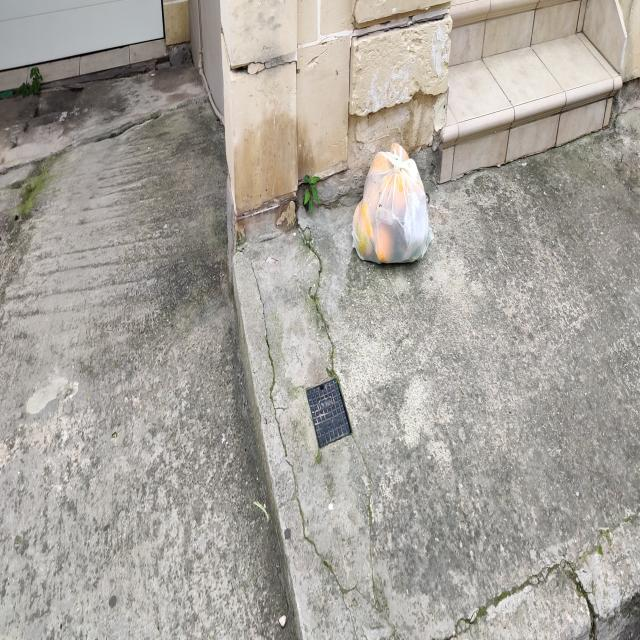Organic Waste -White Bags-: (348, 145, 435, 268)
